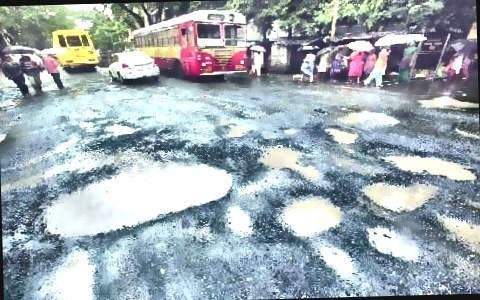pothole: (36, 153, 236, 238), (365, 139, 479, 185), (37, 244, 99, 300), (253, 138, 324, 184), (274, 190, 343, 235), (359, 176, 438, 214), (362, 221, 421, 266), (433, 211, 480, 253), (314, 238, 357, 280), (337, 105, 400, 127), (222, 203, 254, 236), (320, 122, 362, 147), (212, 116, 247, 138), (102, 122, 140, 135)
